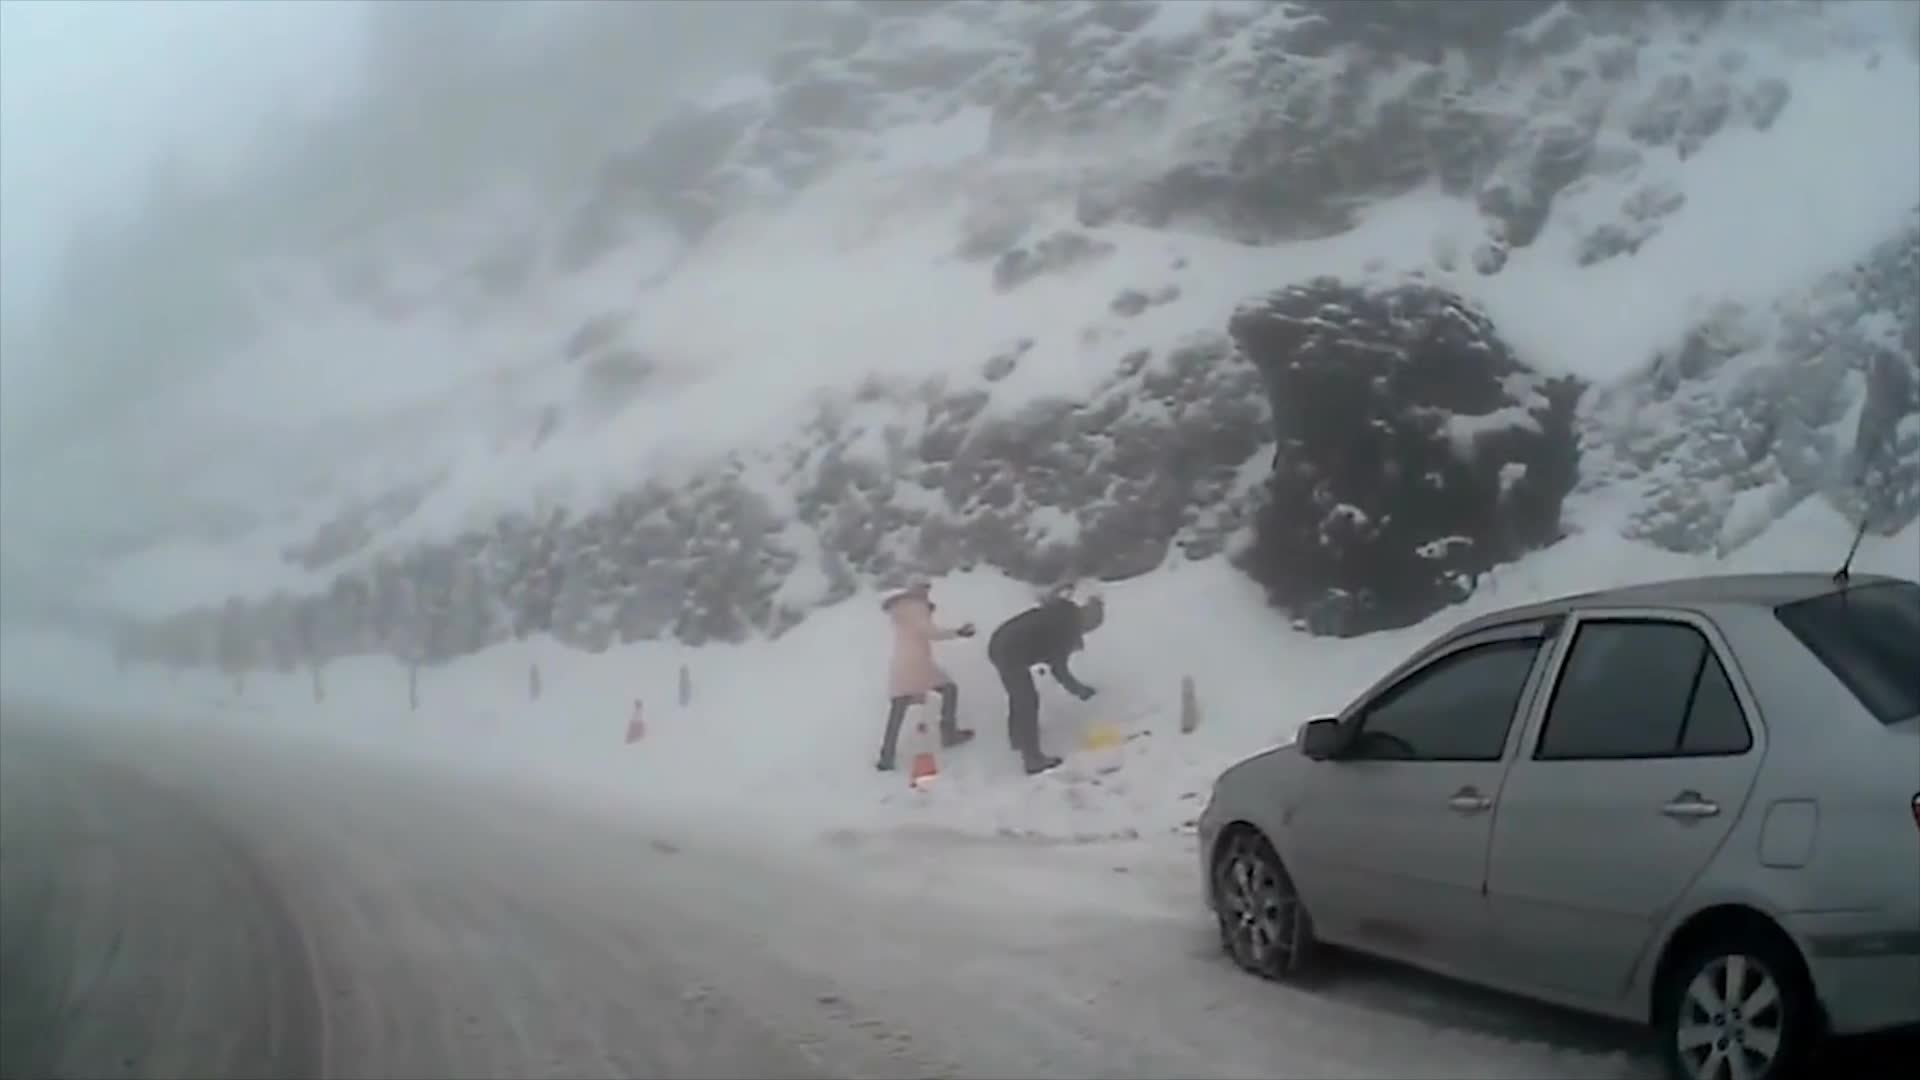pedestrian: (868, 571, 983, 770), (986, 591, 1103, 774)
vehicle: (1196, 568, 1920, 1080)
